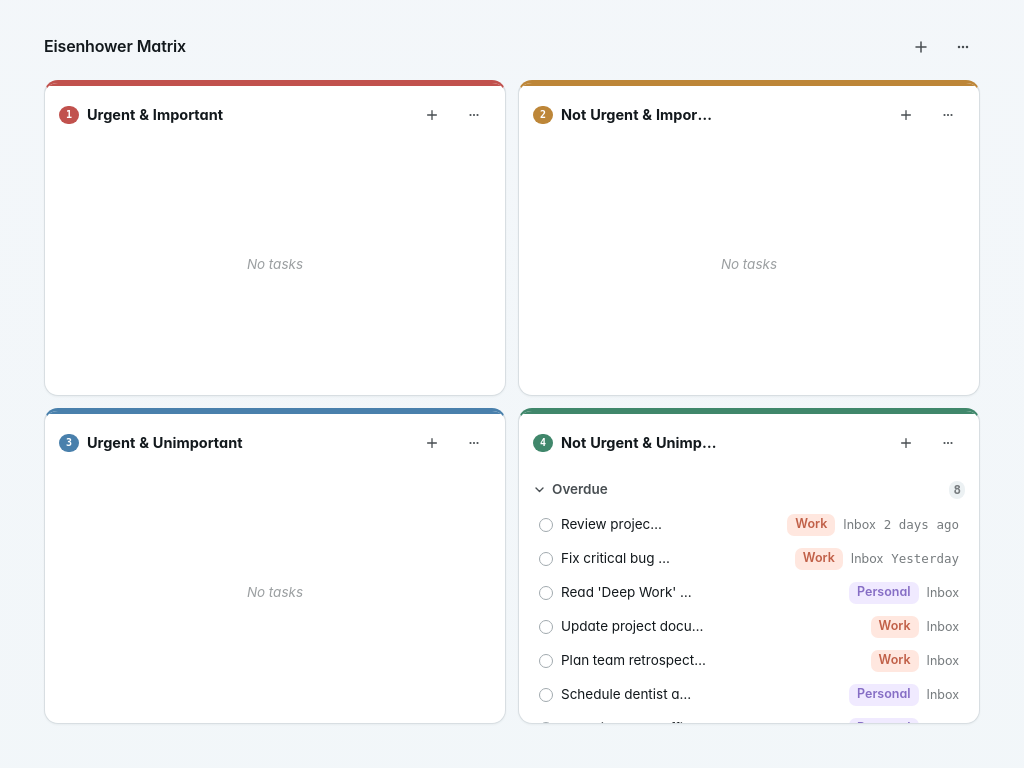
Scenario: MatrixModule card create › T-MWIRE-1: clicking M-01 header + opens the composer with defaultQuadrant=q1
Click the button named "add" at (921, 47), box 904,30 -> 938,64
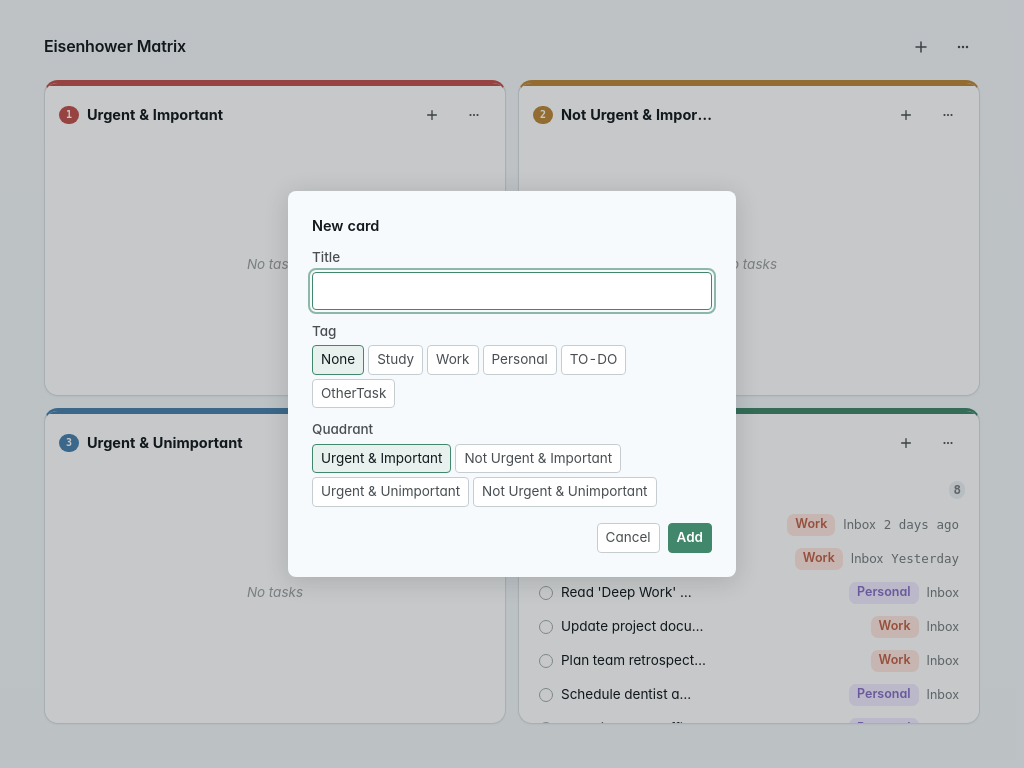
Now the radio button labelled "Urgent & Important" is shown, box 312,444 -> 452,473
